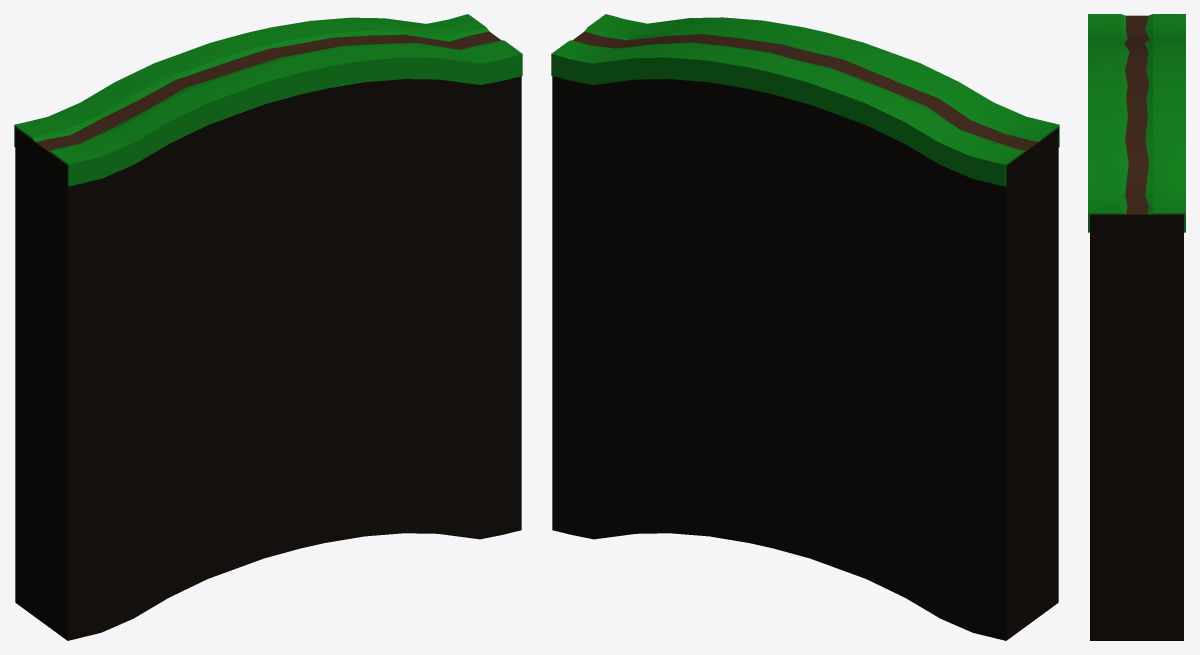
The model's file is blockBump01.fbx.
3 views of the same model, side by side, from view 1: azimuth 30°, elevation 25°; view 2: azimuth 150°, elevation 25°; view 3: azimuth 270°, elevation 25° (orthographic). The views are drawn at different scales.
Parts seen in each view (by area): view 1: Box001; view 2: Box001; view 3: Box001.
Boxes of the visible parts, x1,y1,x2,y2 form: Box001: (14,14,522,640); Box001: (551,14,1059,640); Box001: (1088,14,1185,640).
Size of the model in its own units: 50 by 10.41 by 53.96.
